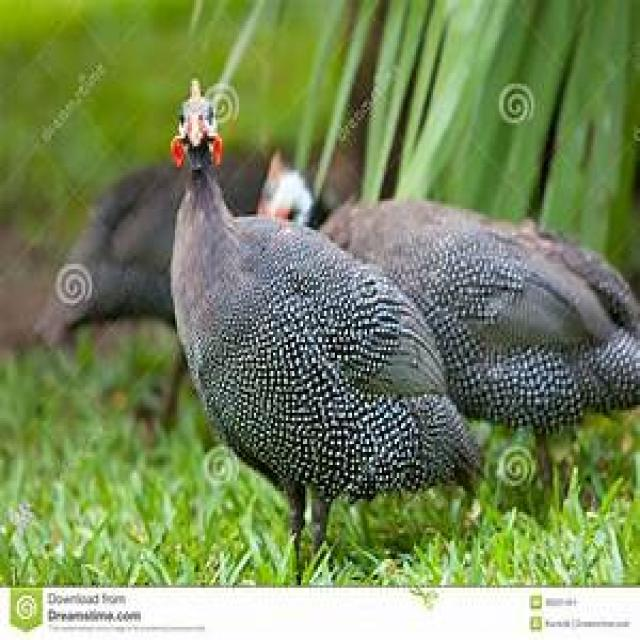hen: (169, 102, 484, 522)
